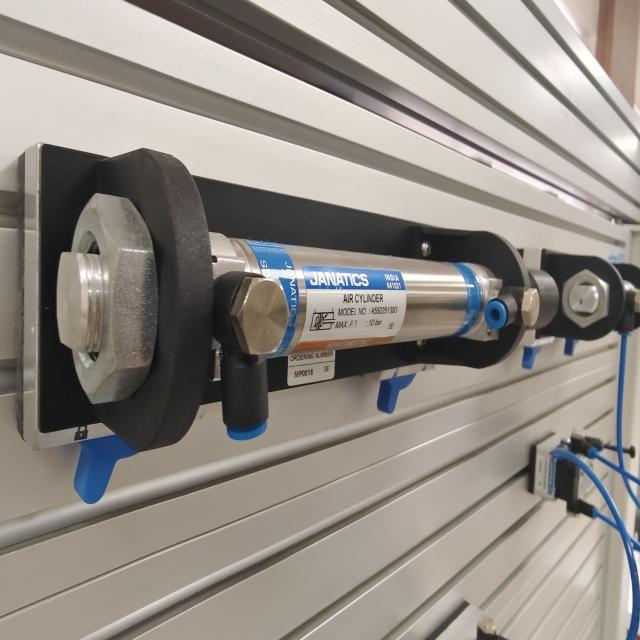double acting pneumatic cylinder: (24, 107, 564, 517)
